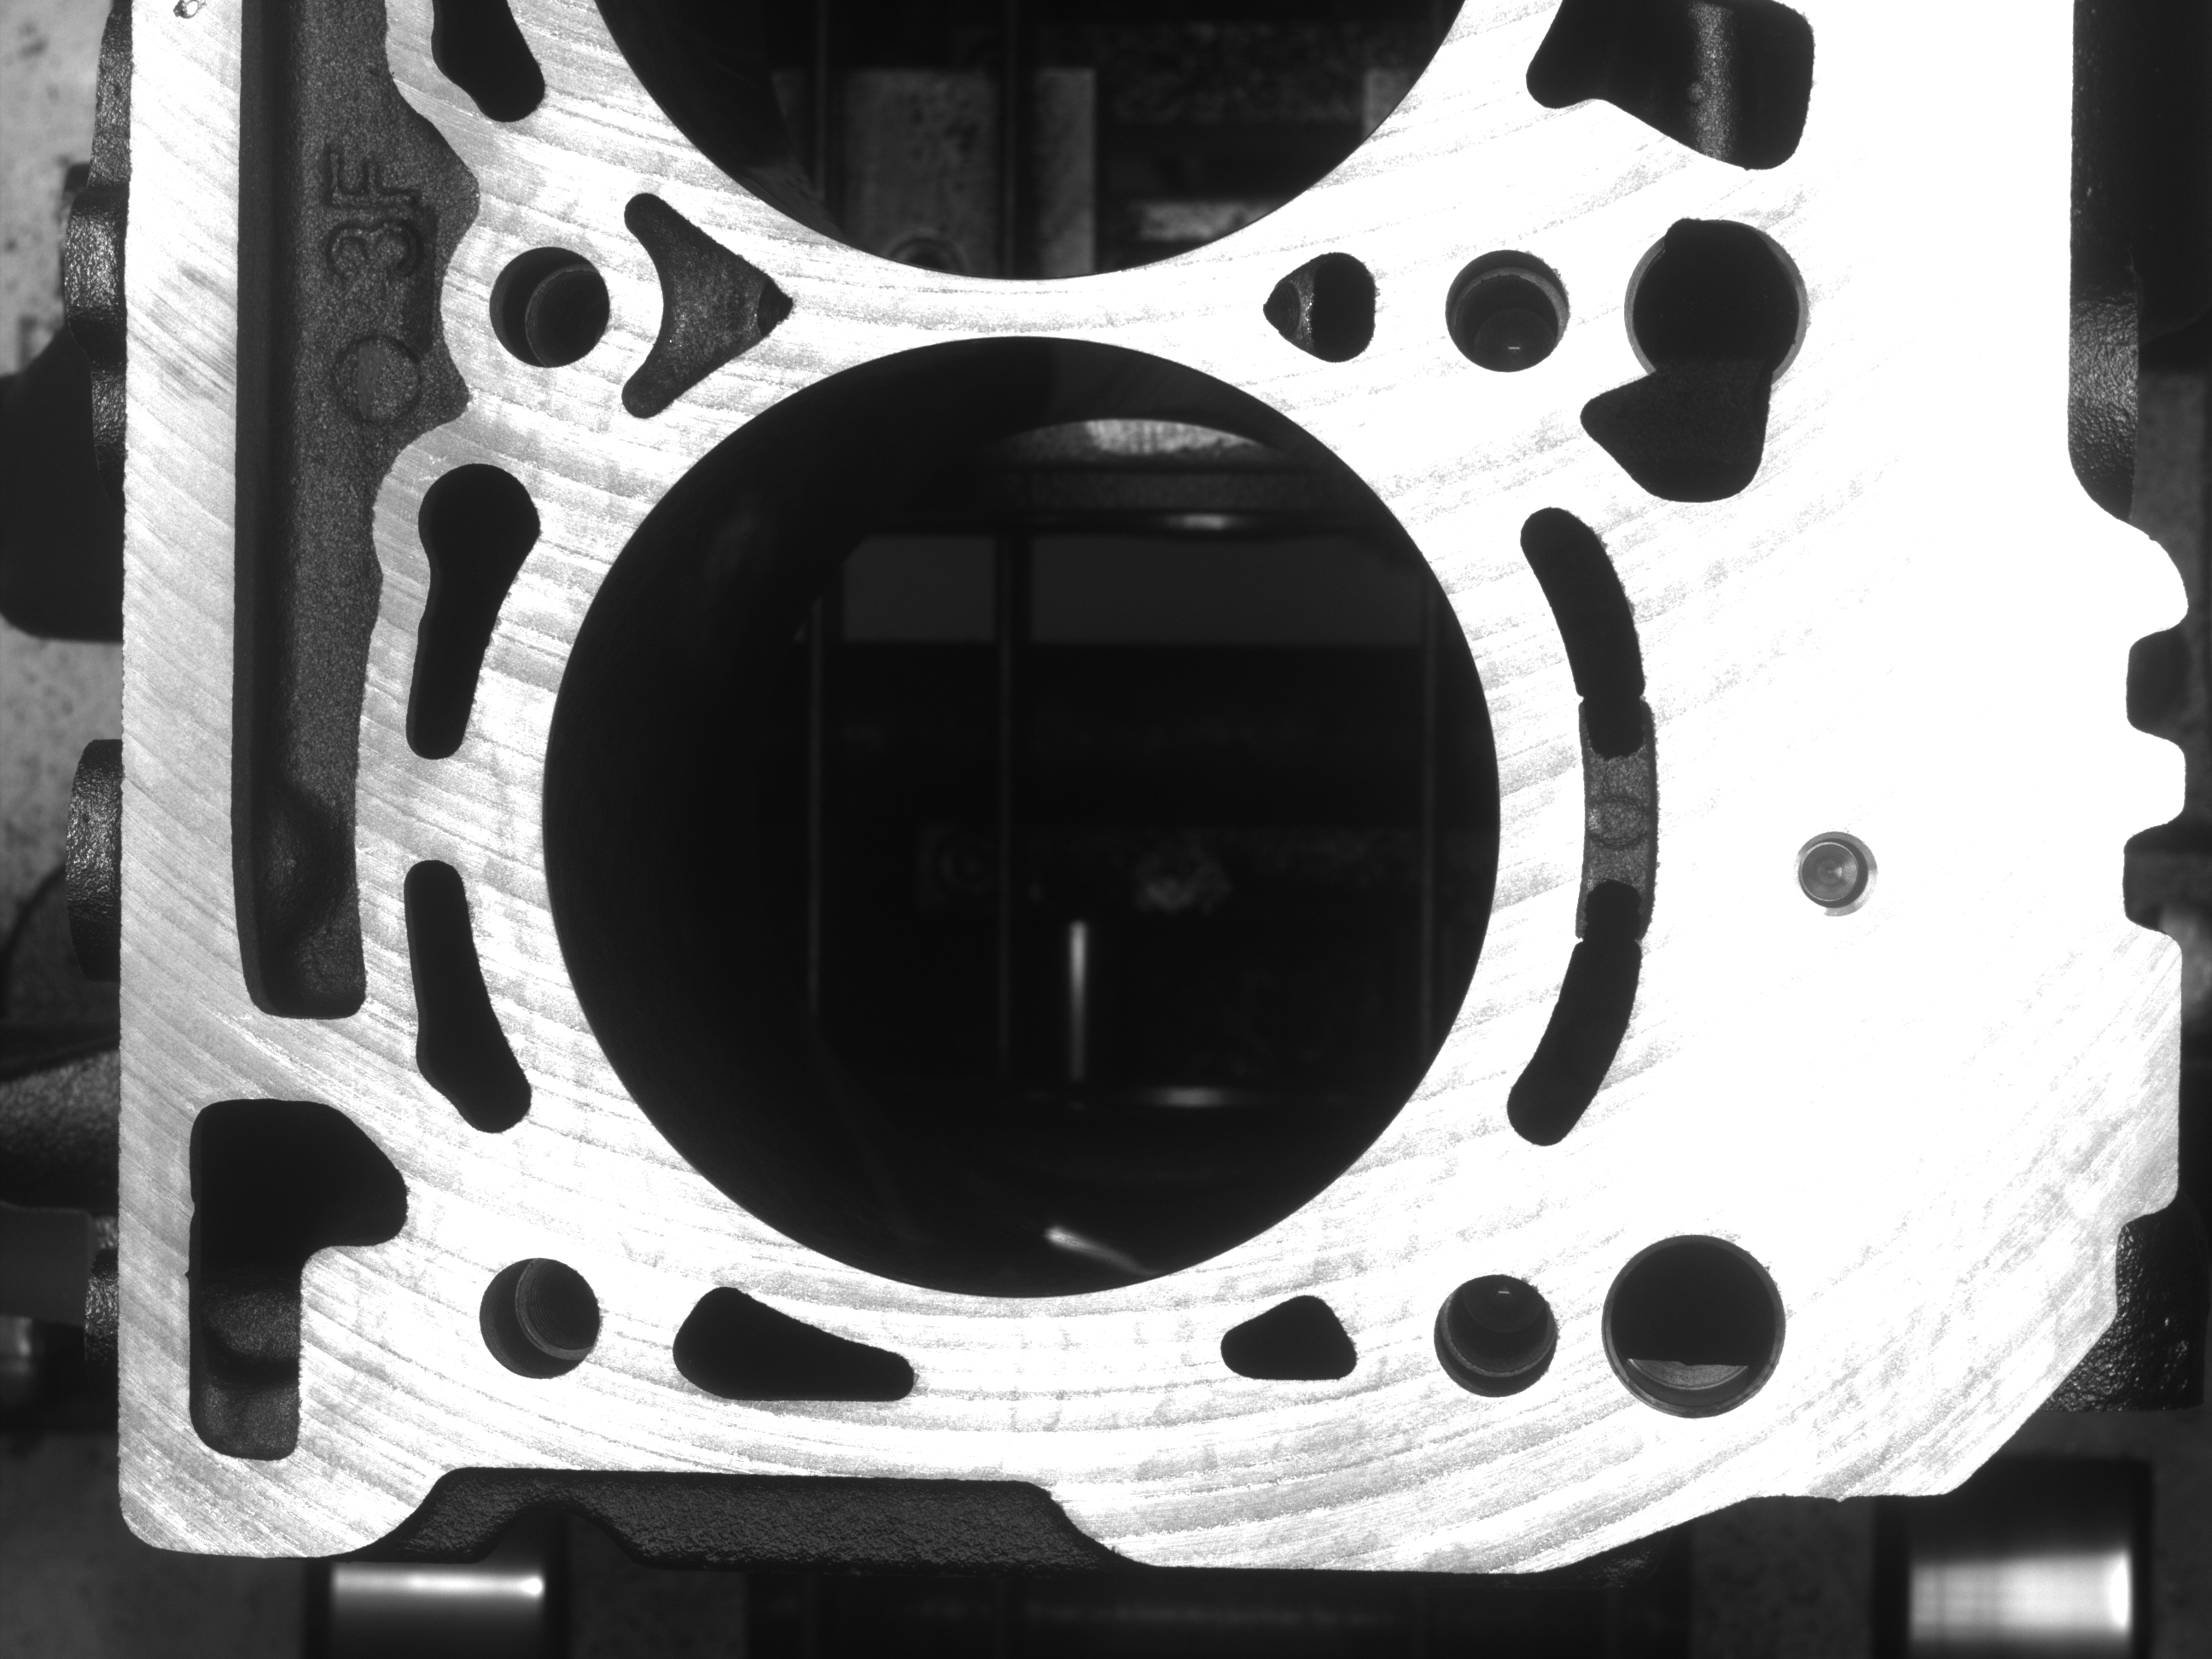shrinkage: (158, 5, 223, 47)
